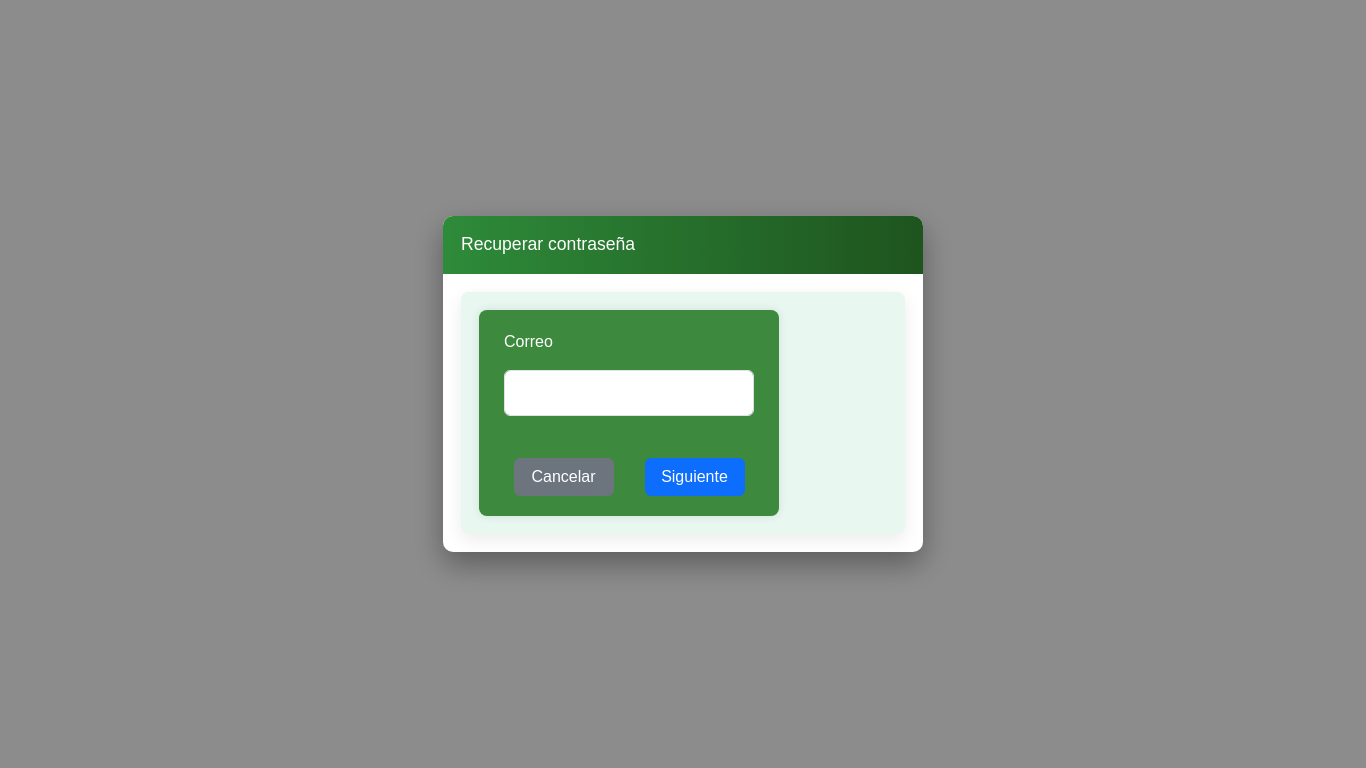
Test: RecoverPasswordModal › muestra un mensaje si el correo no existe
In the field labelled "Correo": (629, 393) [504,370,754,416], type "unknown@condor.cl"
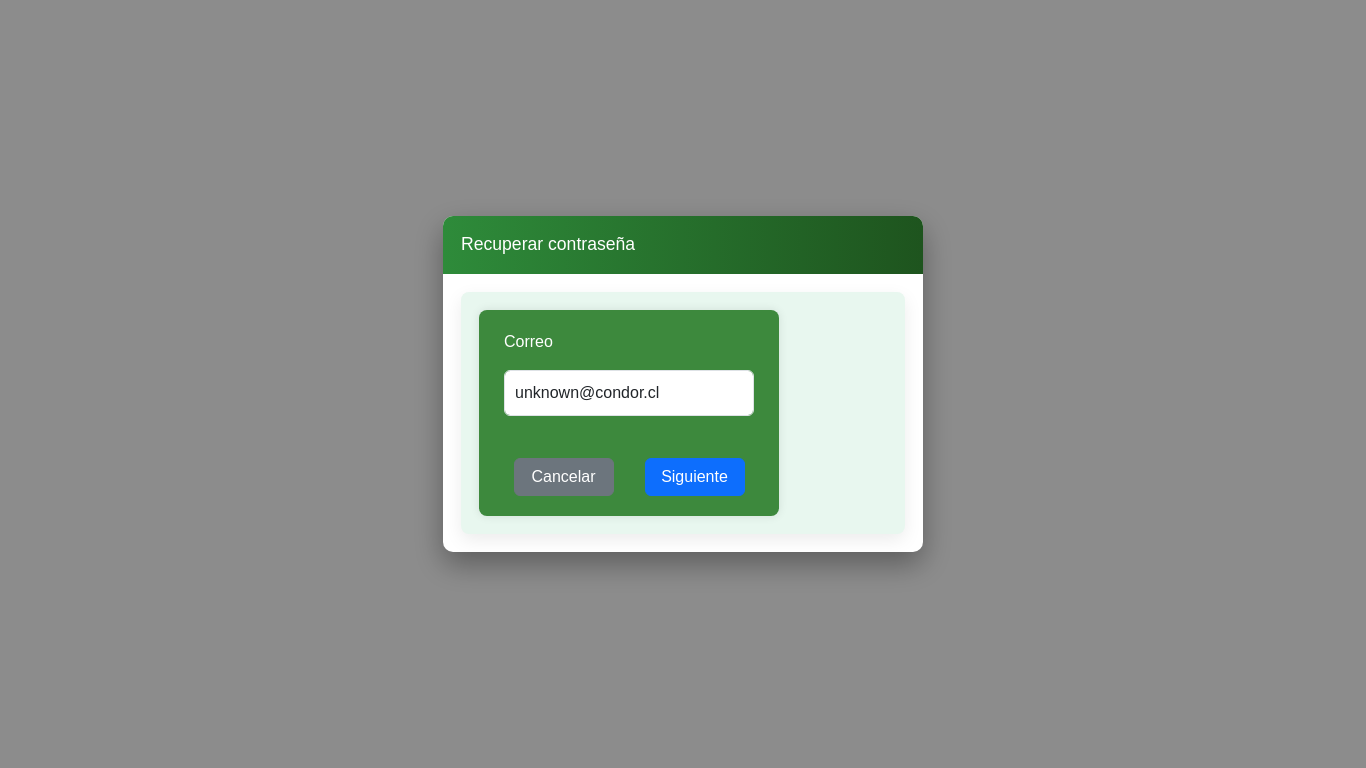
Click the button "Siguiente": (694, 477) [644,458,744,496]
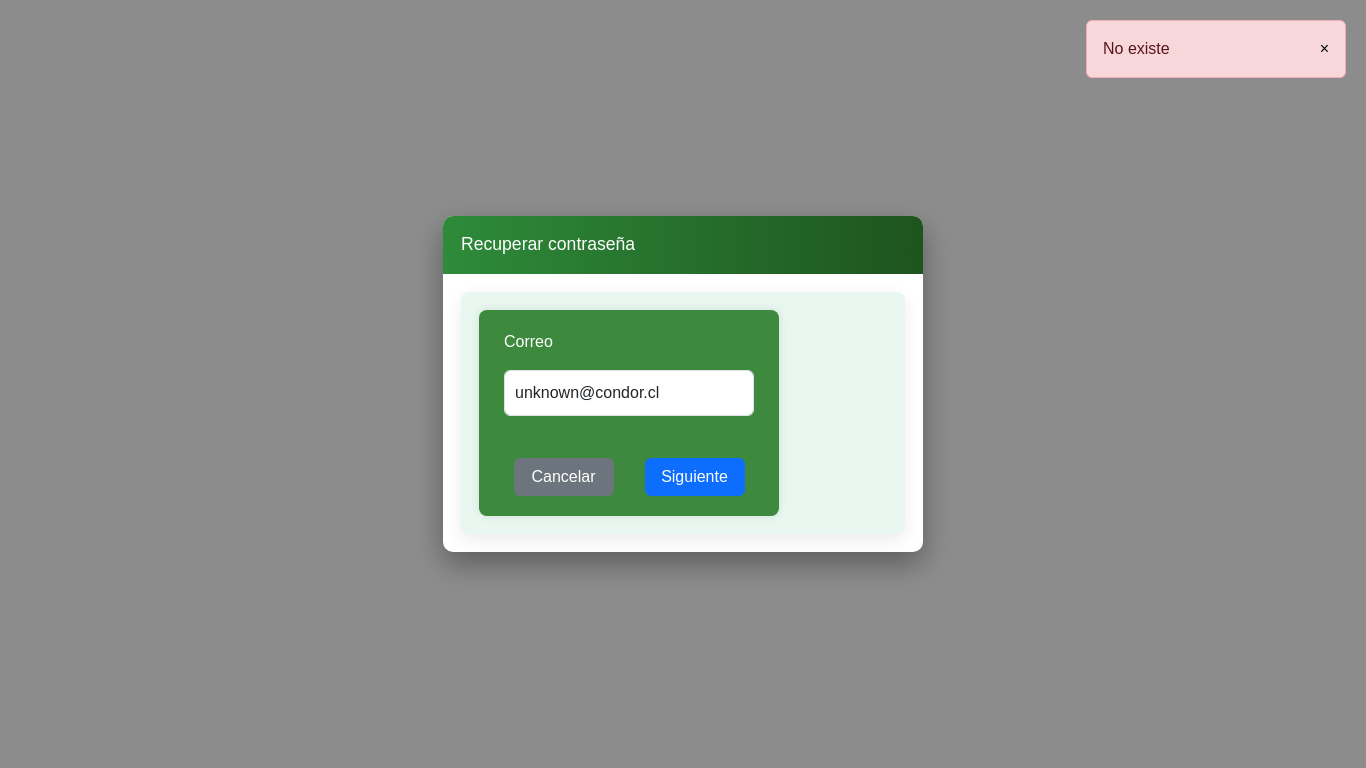
Now the text "No existe ×" is shown, box [1086,20,1346,78]
